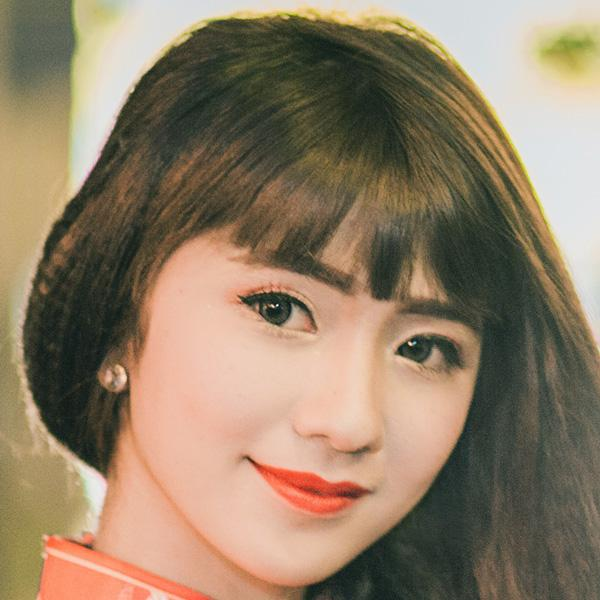Eyes: (232, 274, 326, 345), (381, 319, 466, 384)
